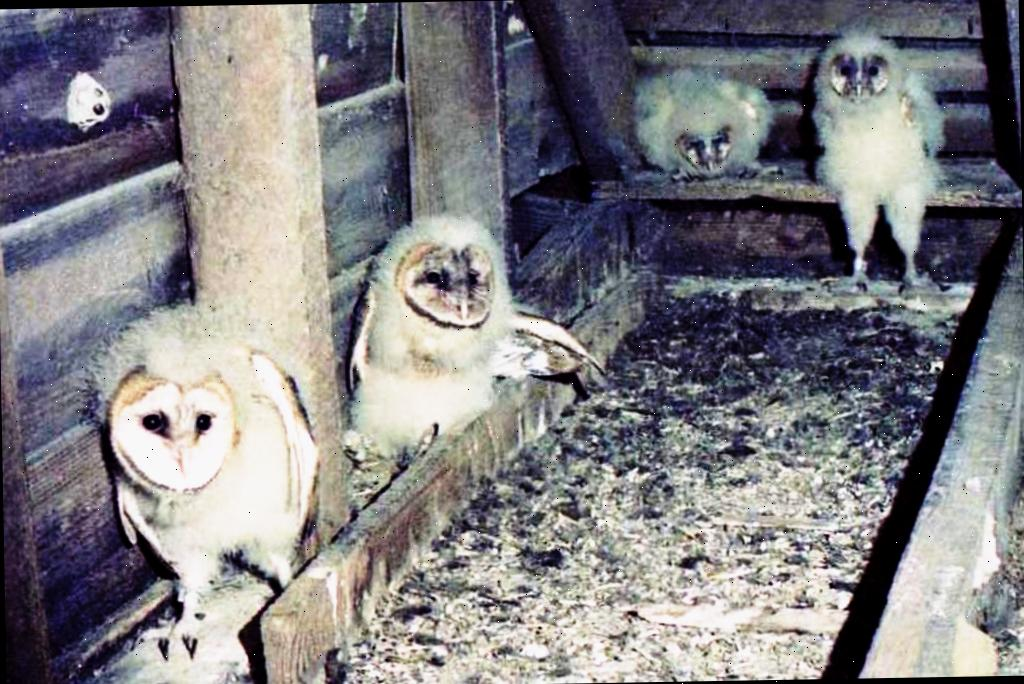Owl: (82, 293, 326, 657), (341, 212, 604, 476), (810, 22, 953, 298), (630, 67, 776, 178)
